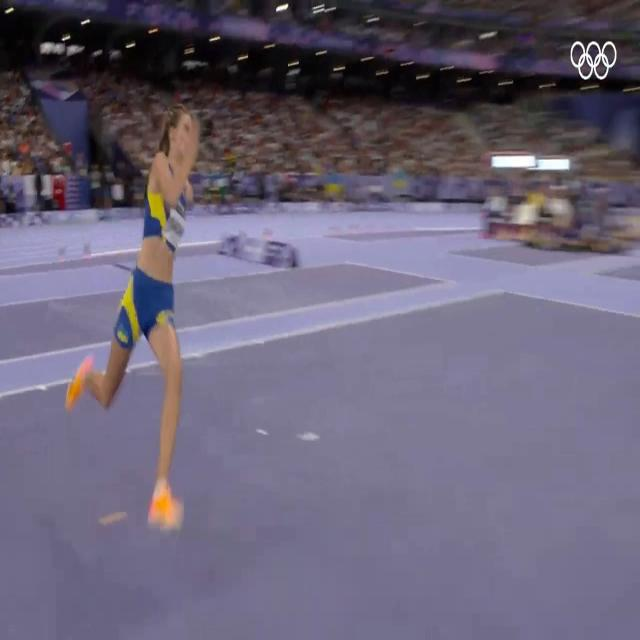run: (64, 94, 208, 532)
